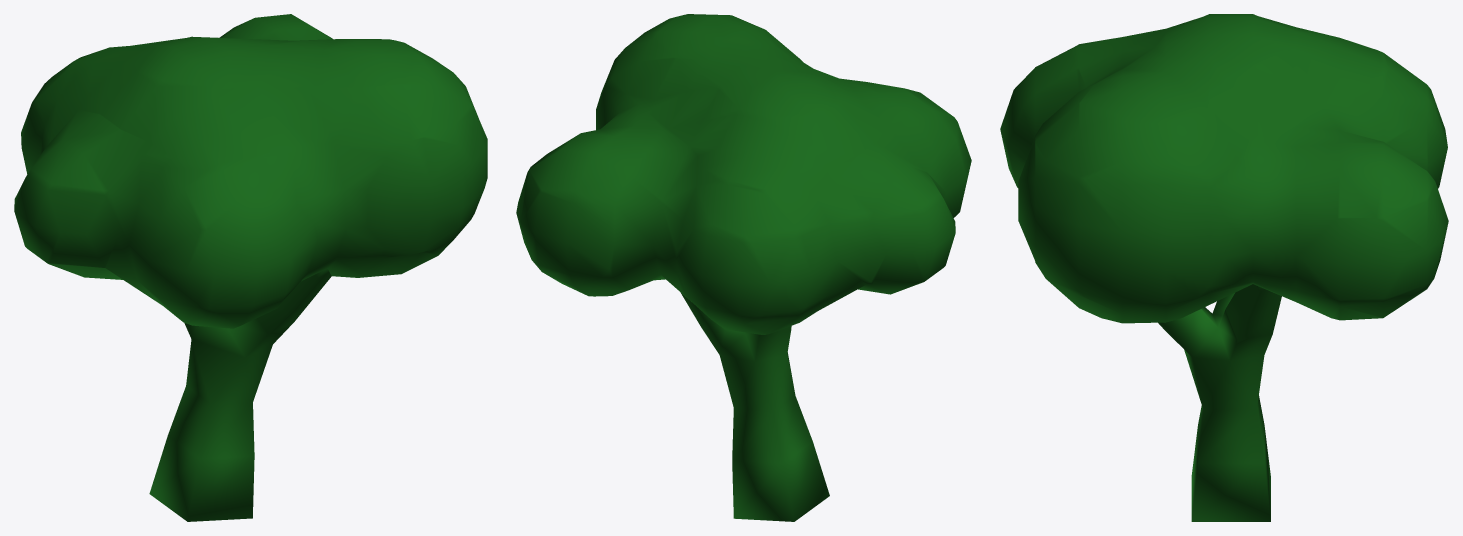
File: broccoli.fbx
3 renders of one model, left to right at view 1: azimuth 30°, elevation 25°; view 2: azimuth 150°, elevation 25°; view 3: azimuth 270°, elevation 25°, orthographic. The views are drawn at different scales.
Parts seen in each view (by area): view 1: Broccoli; view 2: Broccoli; view 3: Broccoli.
Part boxes in pixels (<box>): Broccoli: <box>14,14,487,521</box>; Broccoli: <box>516,14,971,521</box>; Broccoli: <box>1000,14,1448,521</box>.
Bounding box in the file's own units: 46.12 × 42.95 × 50.78.
